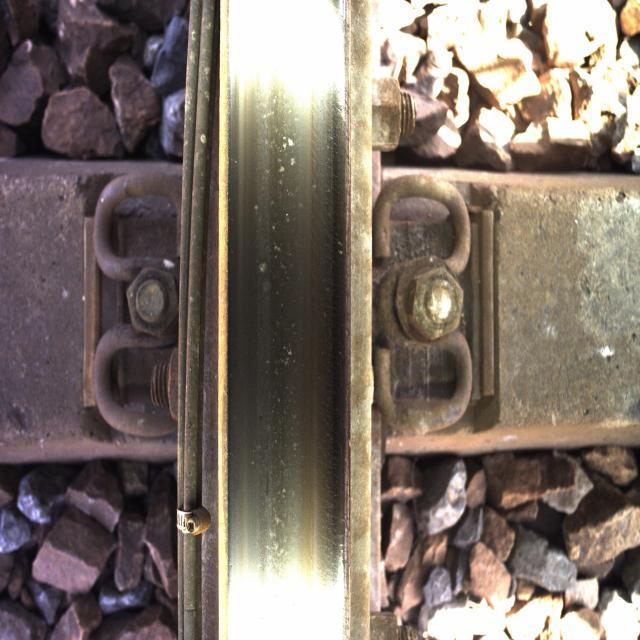scar: (238, 70, 328, 574)
